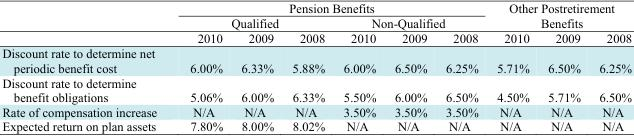table: (1, 0, 631, 132)
table column: (1, 0, 172, 132), (172, 0, 231, 132), (486, 0, 538, 132), (231, 0, 282, 132), (282, 0, 333, 132), (333, 0, 384, 132), (384, 0, 435, 132), (435, 0, 486, 132), (538, 0, 589, 132), (589, 0, 631, 132)
table column header: (1, 0, 631, 45)
table row: (1, 45, 631, 74), (1, 74, 631, 103), (1, 0, 631, 15), (1, 15, 631, 30), (1, 30, 631, 45), (1, 103, 631, 118), (1, 118, 631, 132)
table spanning cell: (172, 0, 486, 15), (486, 0, 631, 30), (172, 15, 333, 30), (333, 15, 486, 30)
